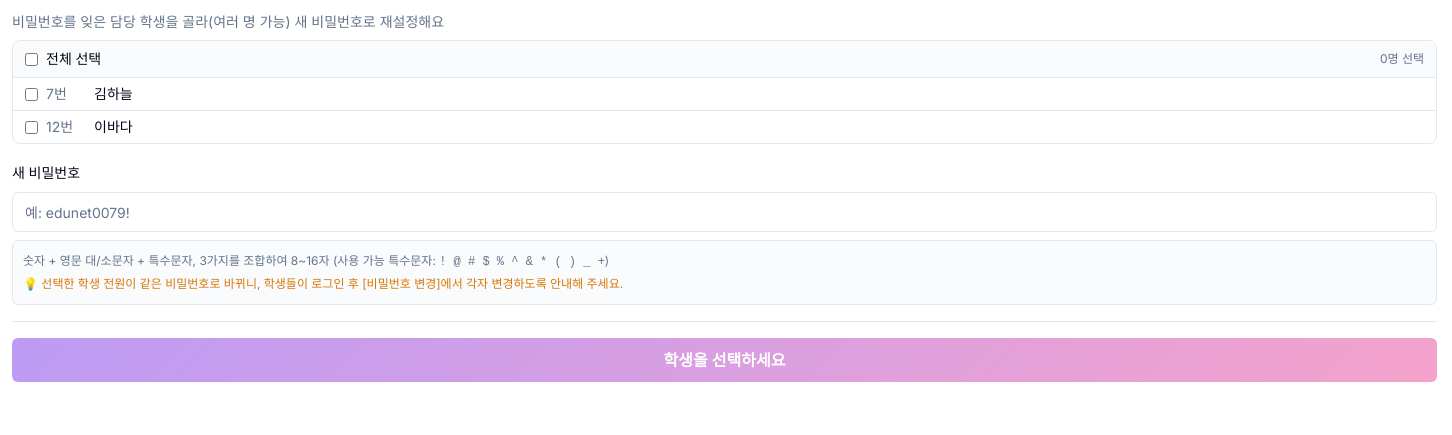
학생 계정 관리 자료 오류 › 일부 학생 선택과 비밀번호 변경 결과를 화면 읽기 도구에 알린다
Click the checkbox labelled "7번 김하늘": (32, 94) [25,88,38,100]
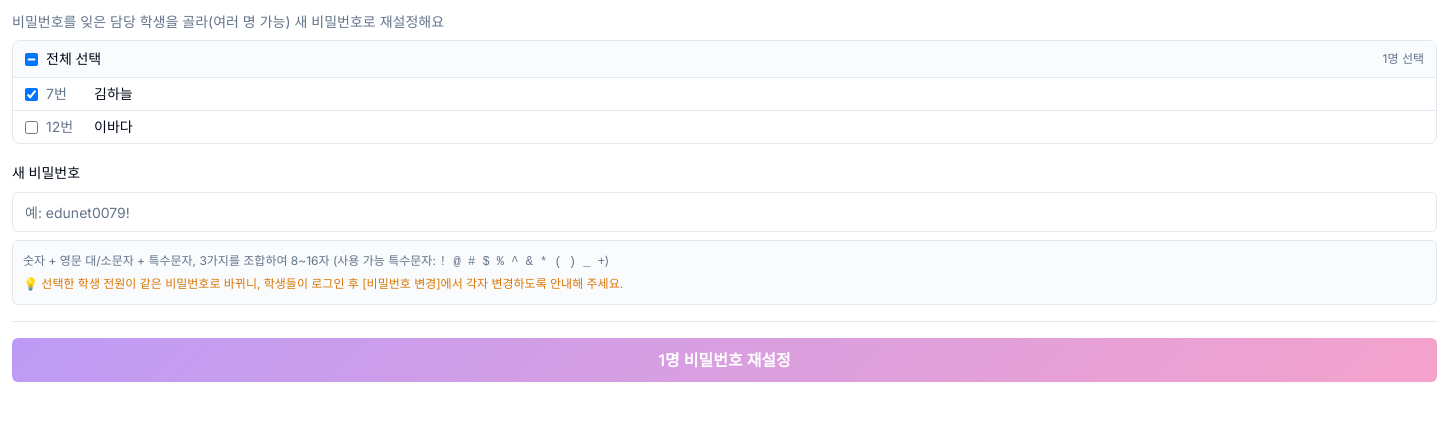
In the field labelled "새 비밀번호": (724, 212) [12,192,1437,232], type "short"
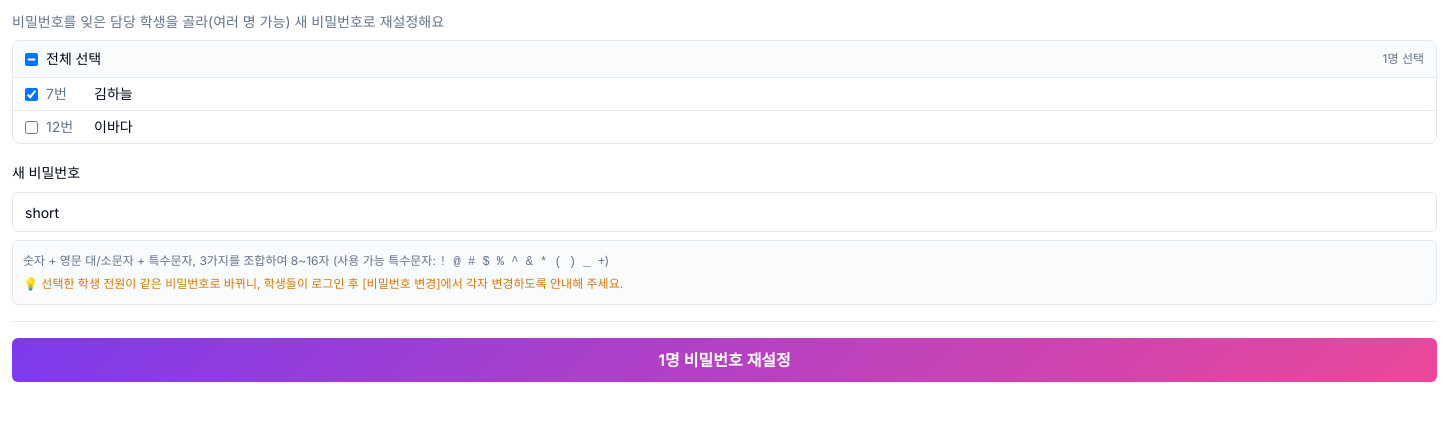
Click the button "1명 비밀번호 재설정": (724, 360) [12,338,1437,382]
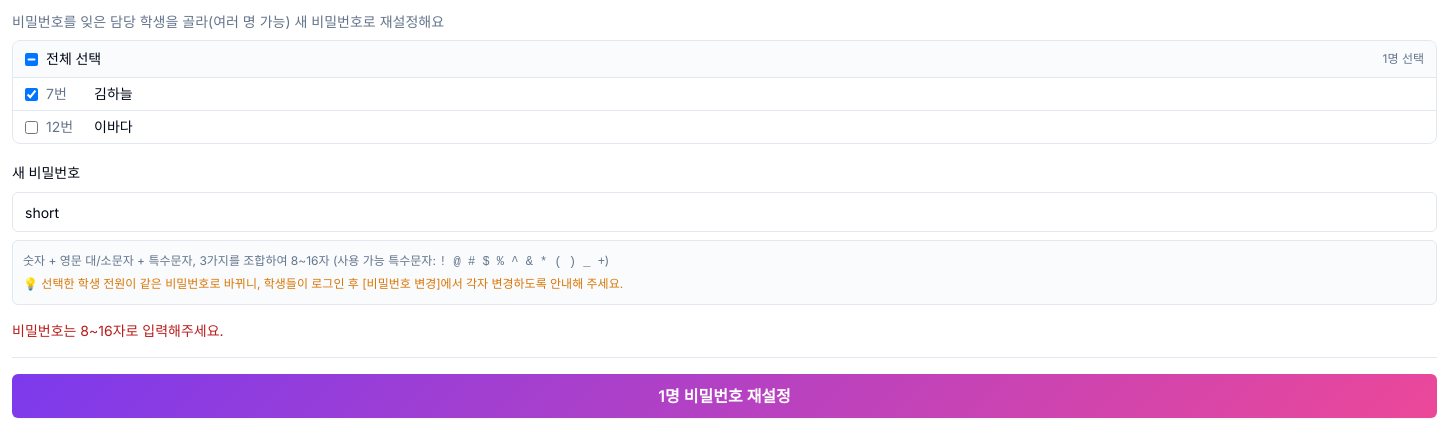
Result: the message reads "비밀번호는 8~16자로 입력해주세요." at [12,322,224,339]
Replace the text in the field labelled "새 비밀번호" with "Valid123!": (724, 212) [12,192,1437,232]
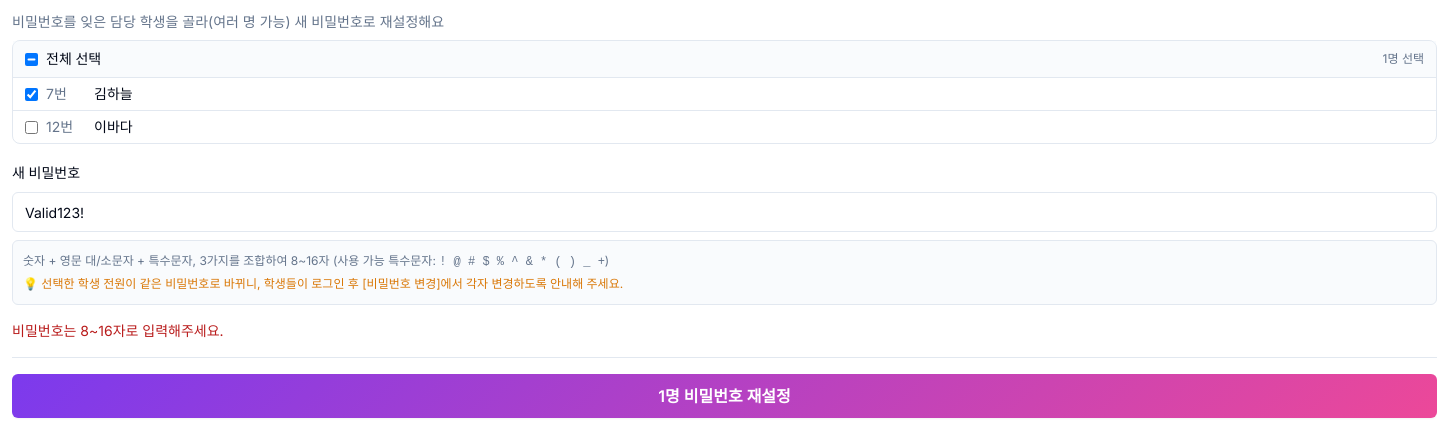
Click the button "1명 비밀번호 재설정": (724, 396) [12,374,1437,418]
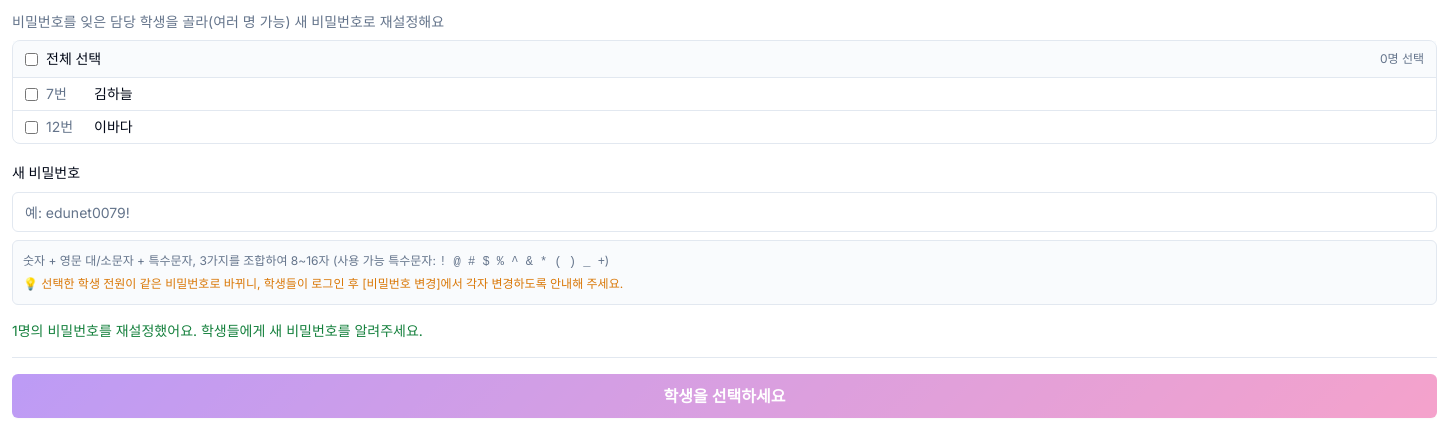
Result: the message shows "1명의 비밀번호를 재설정했어요." at [12,322,423,339]
